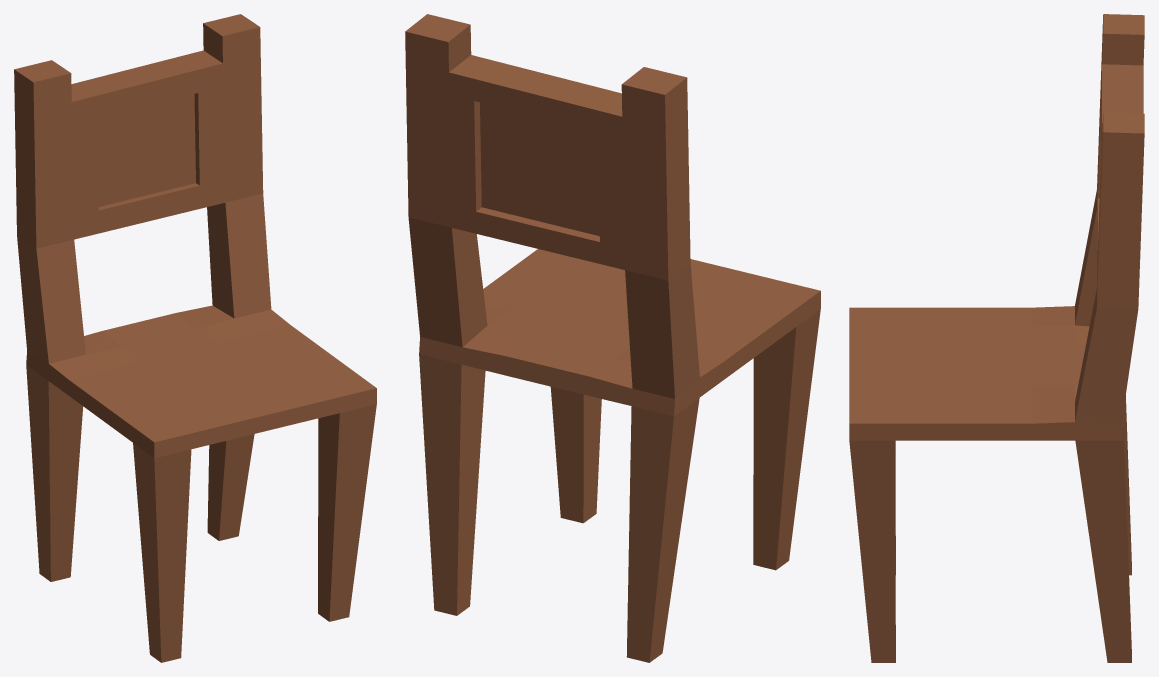
Rendered from chair.fbx.
3 views of the same model, side by side, from view 1: azimuth 30°, elevation 25°; view 2: azimuth 150°, elevation 25°; view 3: azimuth 270°, elevation 25° (orthographic). The views are drawn at different scales.
Parts seen in each view (by area): view 1: Cube; view 2: Cube; view 3: Cube.
Part boxes in pixels (x1=…): Cube: x1=14, y1=14, x2=376, y2=662; Cube: x1=405, y1=14, x2=820, y2=662; Cube: x1=849, y1=14, x2=1144, y2=662.
Bounding box in the file's own units: 330 × 704 × 348.
